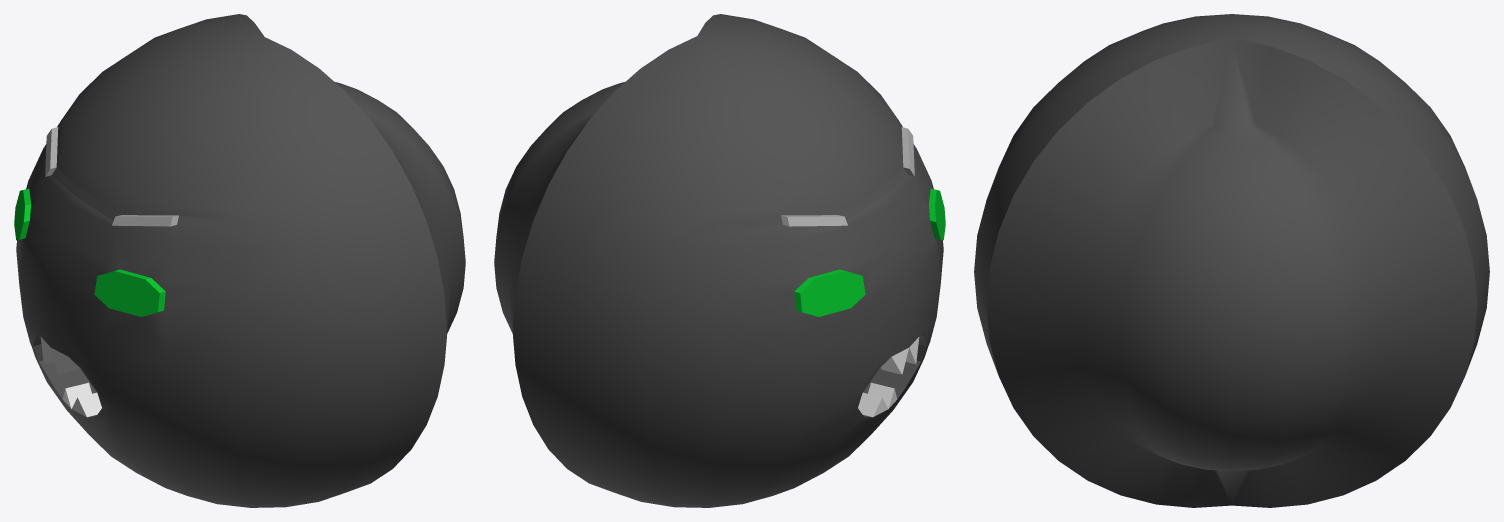
The model's file is Boss.fbx.
The picture shows the model from 3 angles, left to right: view 1: azimuth 30°, elevation 25°; view 2: azimuth 150°, elevation 25°; view 3: azimuth 270°, elevation 25°; orthographic projection. The views are drawn at different scales.
Parts seen in each view (by area): view 1: polySurface1; view 2: polySurface1; view 3: polySurface1.
Boxes of the visible parts, x1,y1,x2,y2 form: polySurface1: (14, 14, 465, 507); polySurface1: (494, 14, 945, 507); polySurface1: (974, 14, 1489, 507).
Bounding box in the file's own units: 1.84 × 2 × 2.
